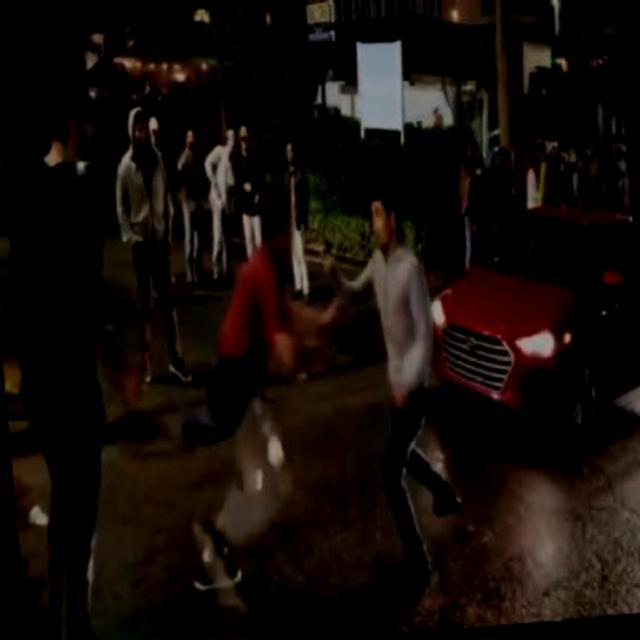fight: (188, 168, 452, 590)
